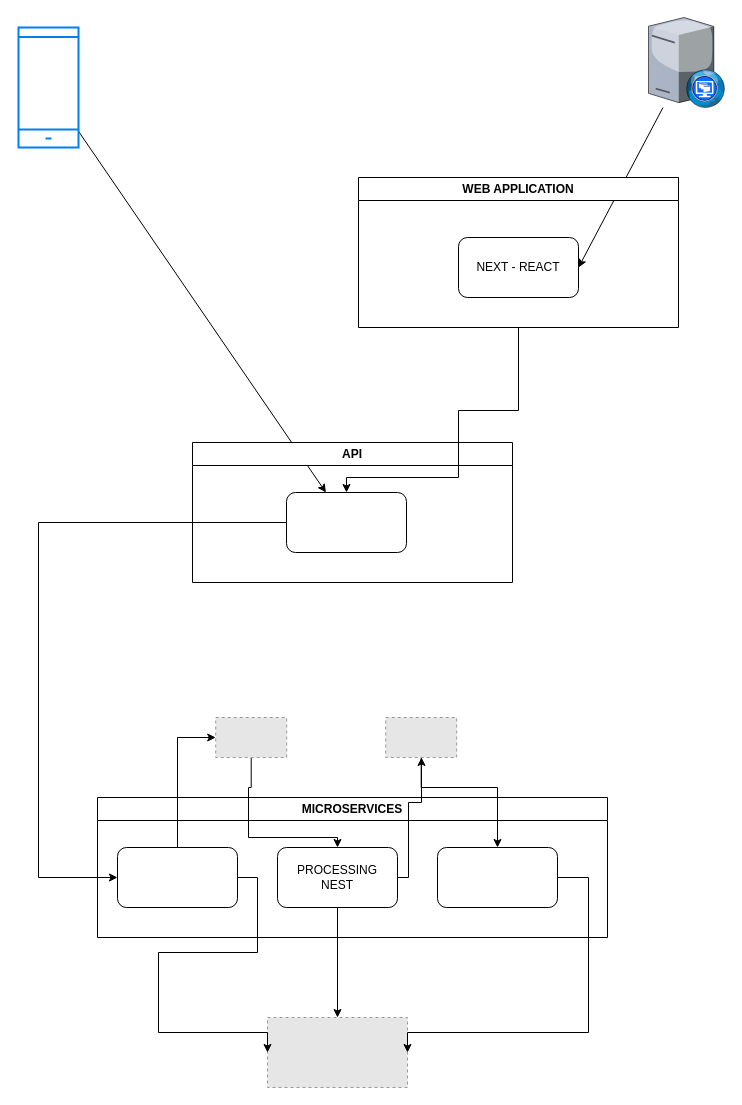
Image size: 742x1105. Some labels were removed from this diagram. Grey dashed boxes stand in for pictures. Each missing label, with the centre of its shape:
"BFF - NEST" goes at (346,522).
"MAIN - NEST" goes at (177,877).
"RECEIPTS NEST" goes at (497,877).
